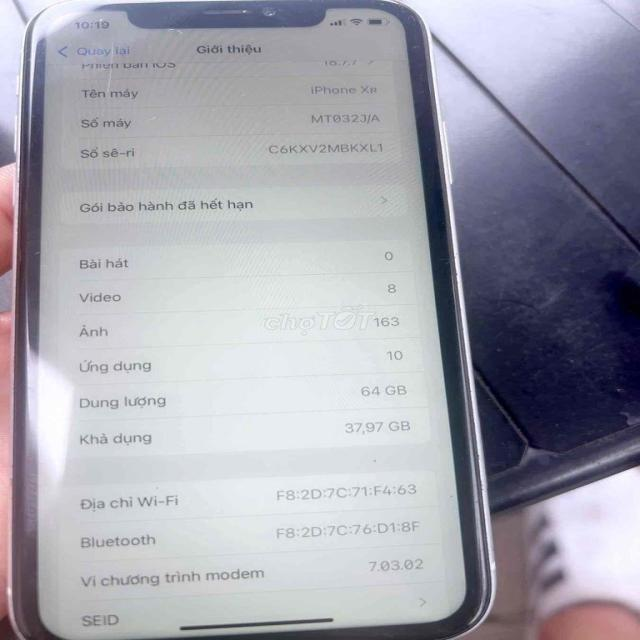gen_x_xs: (9, 0, 520, 640)
